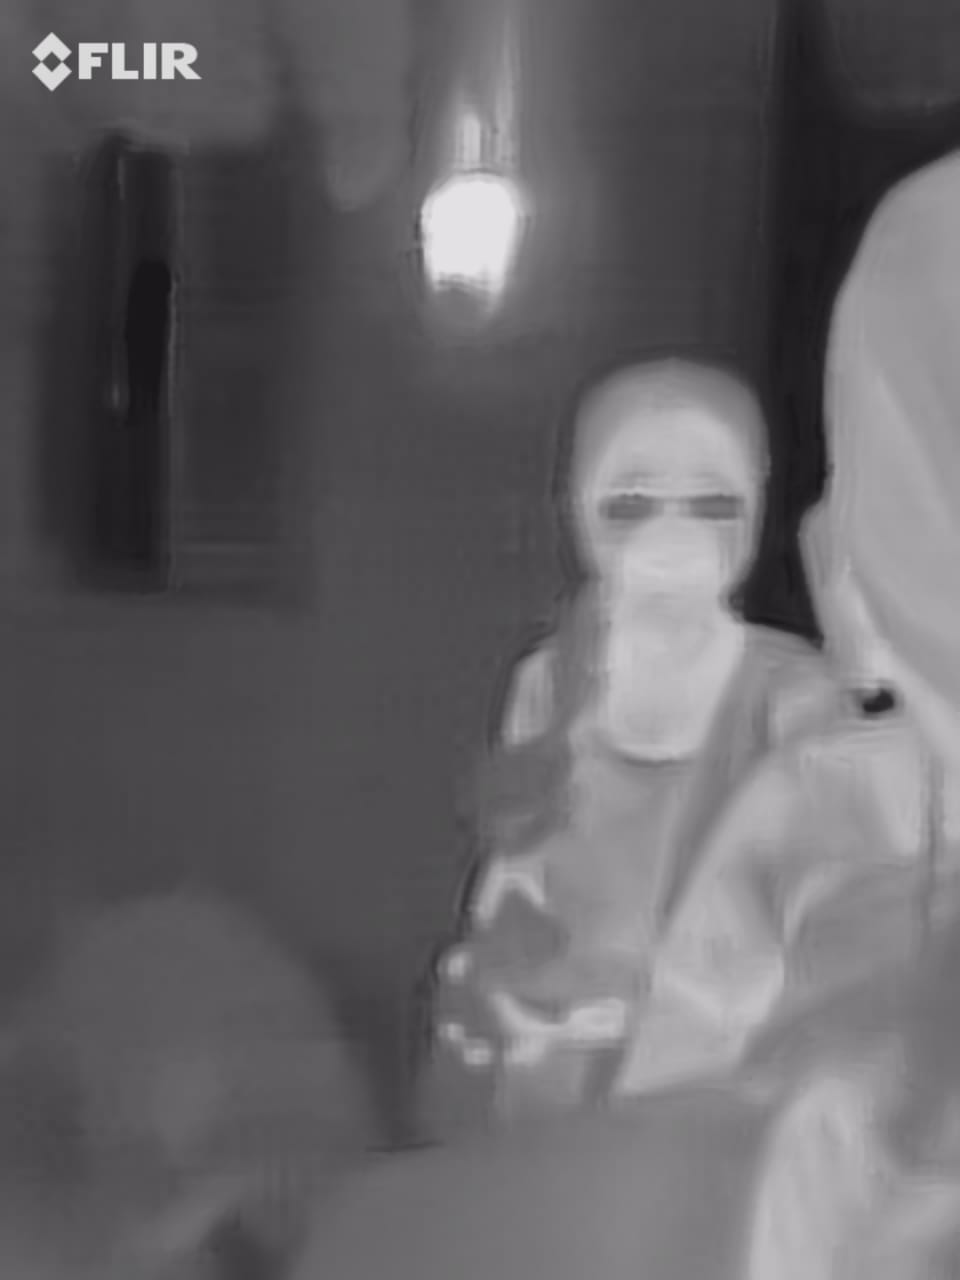head: (553, 358, 778, 661)
